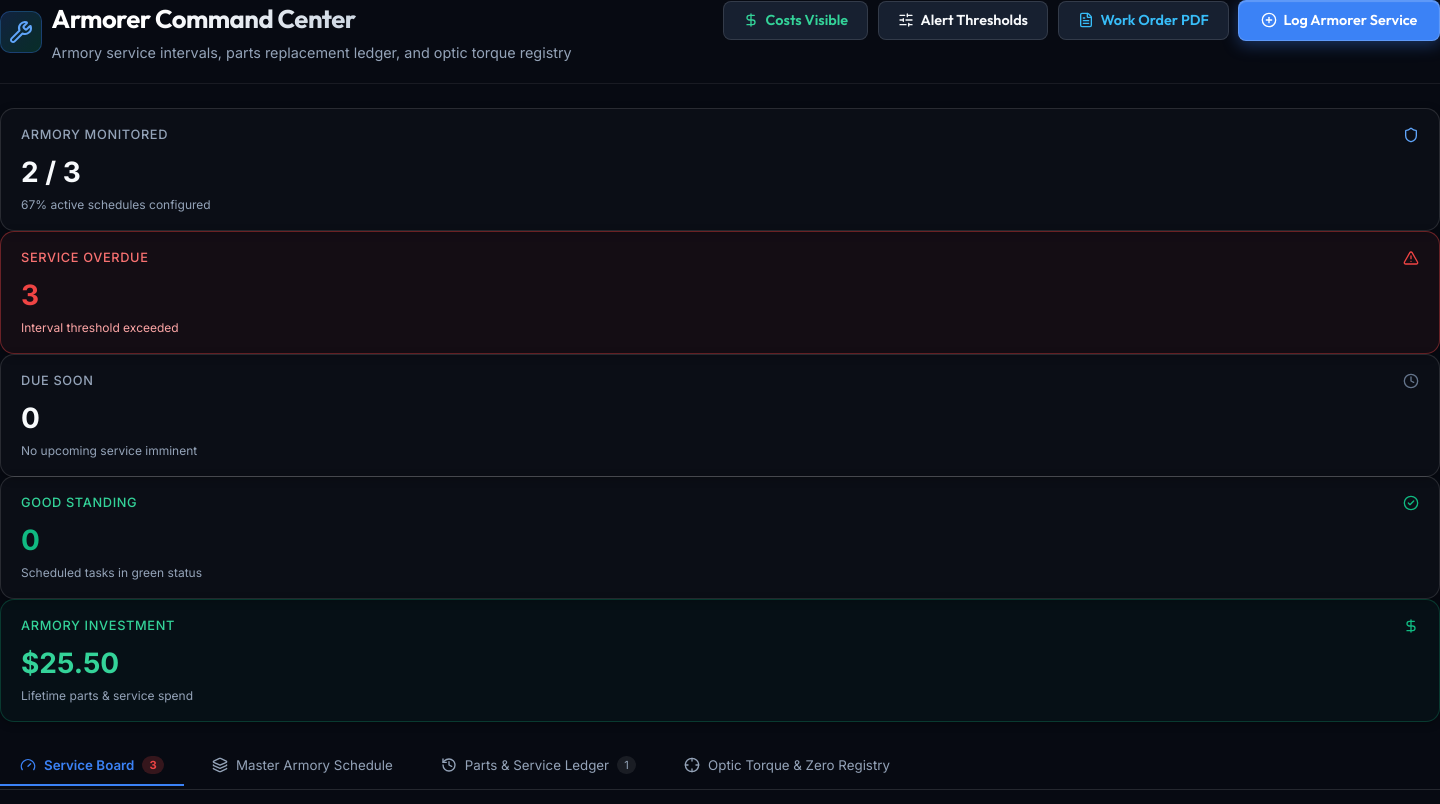
MaintenanceDashboard (Armorer Command Center) › toggles financial cost metrics visibility when cost toggle is clicked
Expected: the text "Armory Investment" is shown, [21,616,175,636]
Expected: the text "$25.50" is shown, [21,646,119,680]
# Click toggle to hide costs
Click the button titled "Hide Financial Costs": (796, 20) [723,1,868,40]
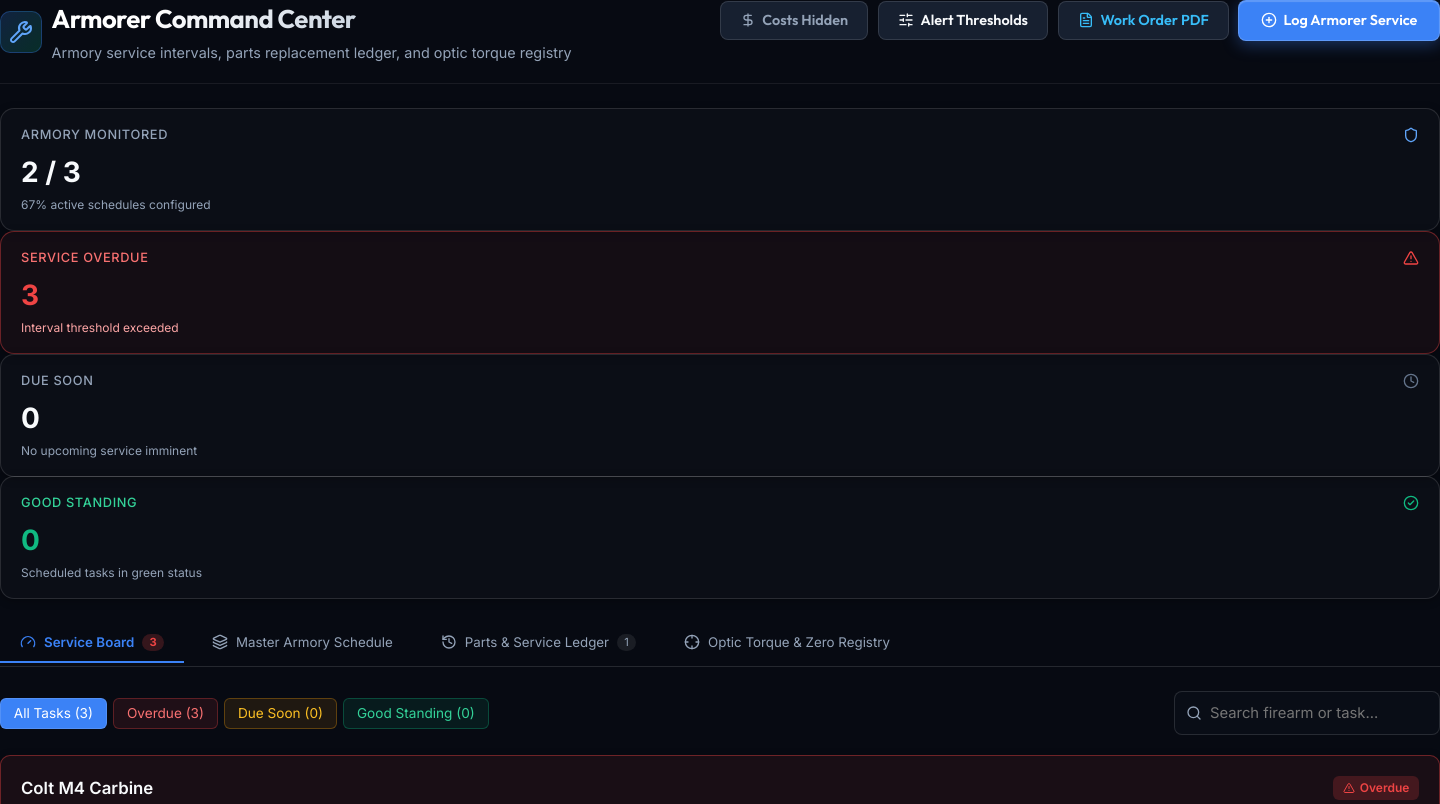
Result: the text "Armory Investment" is gone
Result: the text "Costs Hidden" is shown at [762,11,848,29]
# Click again to show costs
Click the button titled "Show Financial Costs": (794, 20) [720,1,868,40]
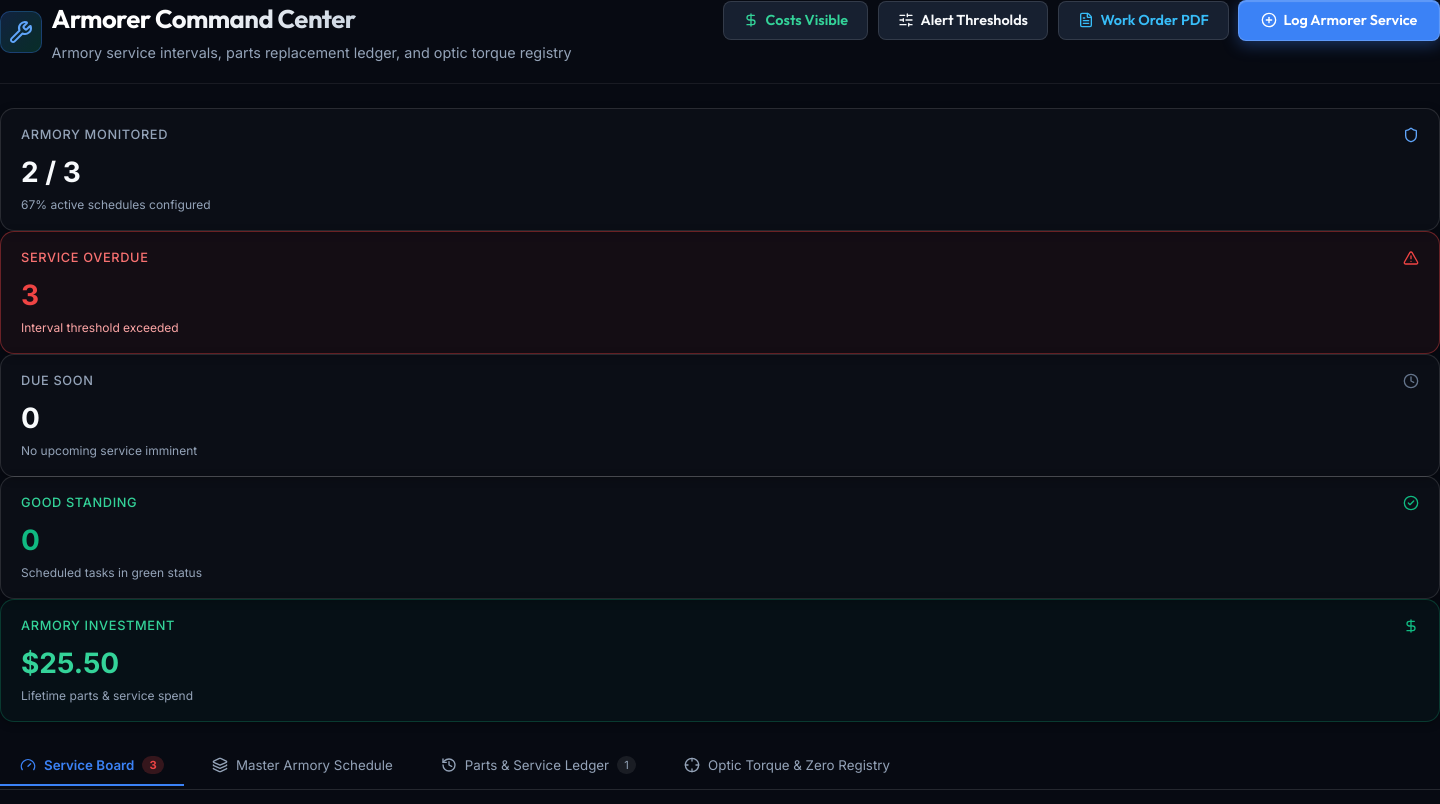
Result: the text "Armory Investment" is shown at [21,616,175,636]
Result: the text "Costs Visible" is shown at [766,11,848,29]
